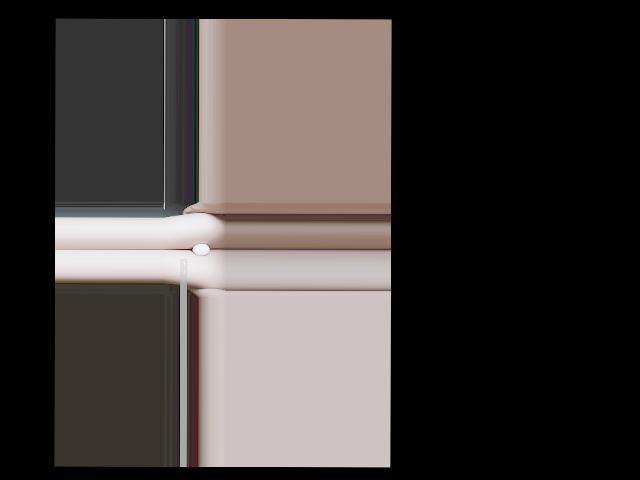egg: (192, 243, 209, 256)
